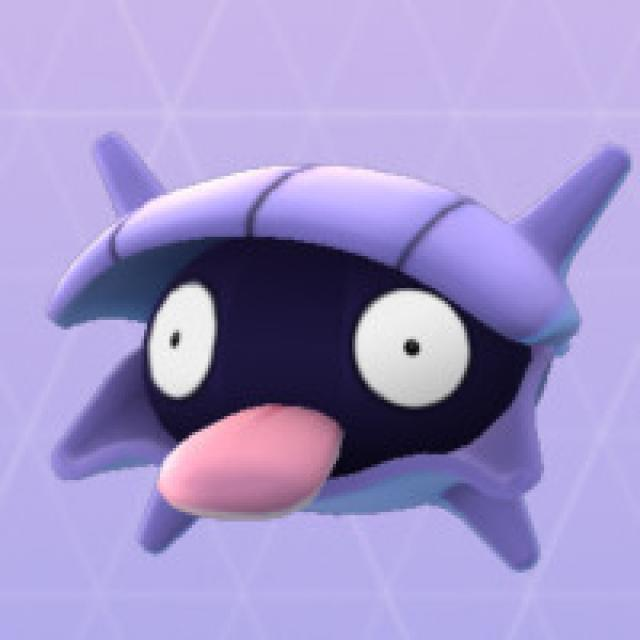Shellder: (57, 132, 585, 561)
